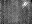person: (23, 1, 30, 6)
